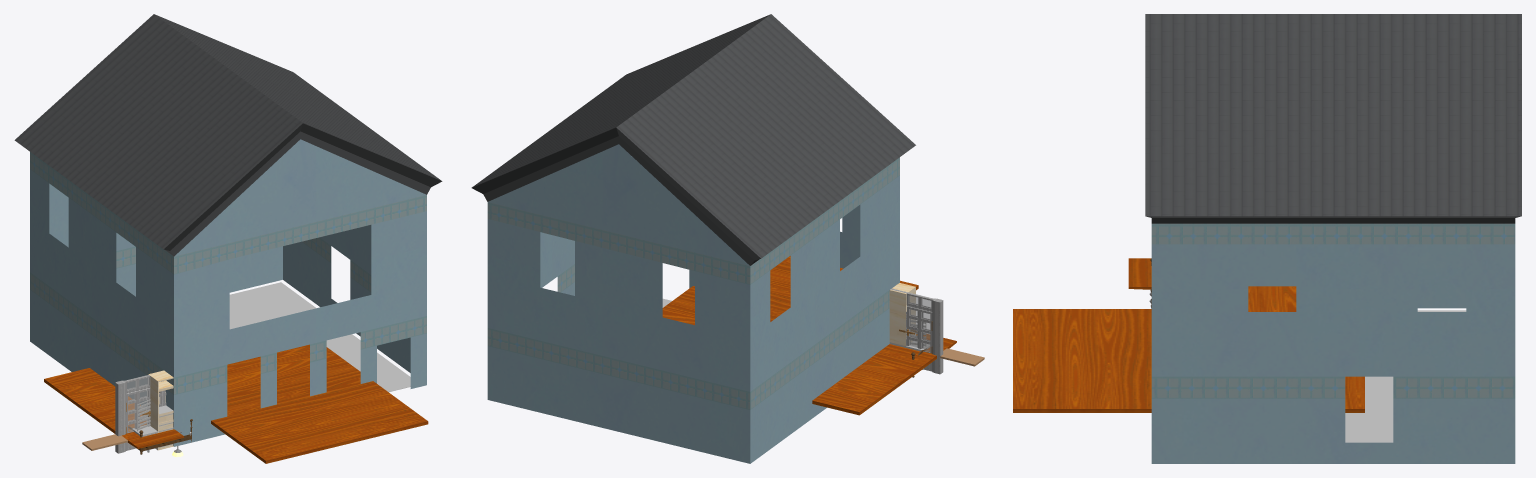
Rendered from 家具店.fbx.
3 views of the same model, side by side, from view 1: azimuth 30°, elevation 25°; view 2: azimuth 150°, elevation 25°; view 3: azimuth 270°, elevation 25° (orthographic). The views are drawn at different scales.
Visible parts, largest first — view 1: 牆壁6_529.002, 家具店屋頂, 家具2樓地板, 家具1樓地板, 假門, 桌子29, 桌子25; view 2: 牆壁6_529.002, 家具店屋頂, 家具2樓地板, 假門, 桌子29; view 3: 牆壁6_529.002, 家具店屋頂, 家具2樓地板, 家具1樓地板.
Part boxes in pixels (x1,y1,x2,y2): 牆壁6_529.002: [30, 139, 426, 446]; 家具店屋頂: [14, 14, 442, 256]; 家具2樓地板: [44, 344, 428, 463]; 家具1樓地板: [229, 282, 410, 392]; 假門: [115, 375, 166, 453]; 桌子29: [148, 370, 173, 450]; 桌子25: [82, 434, 127, 450]; 牆壁6_529.002: [487, 144, 899, 463]; 家具店屋頂: [471, 14, 915, 265]; 家具2樓地板: [662, 256, 956, 415]; 假門: [890, 288, 943, 374]; 桌子29: [889, 283, 915, 345]; 牆壁6_529.002: [1151, 223, 1515, 463]; 家具店屋頂: [1145, 14, 1521, 223]; 家具2樓地板: [1013, 258, 1364, 412]; 家具1樓地板: [1345, 310, 1466, 442].
Size of the model in its own units: 2104 by 1790 by 2111.
